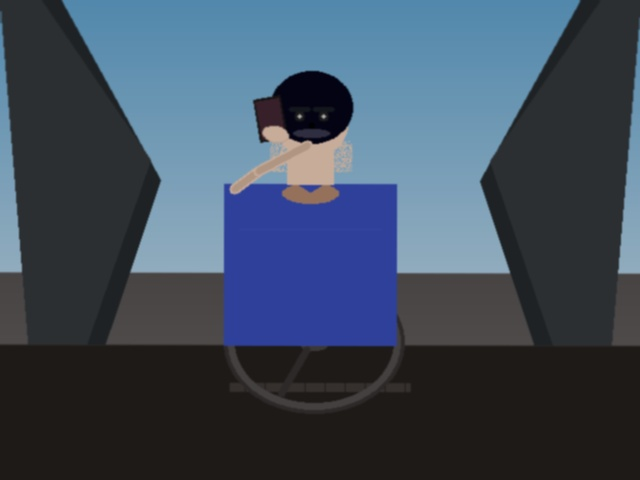phone_usage: (249, 90, 292, 149)
